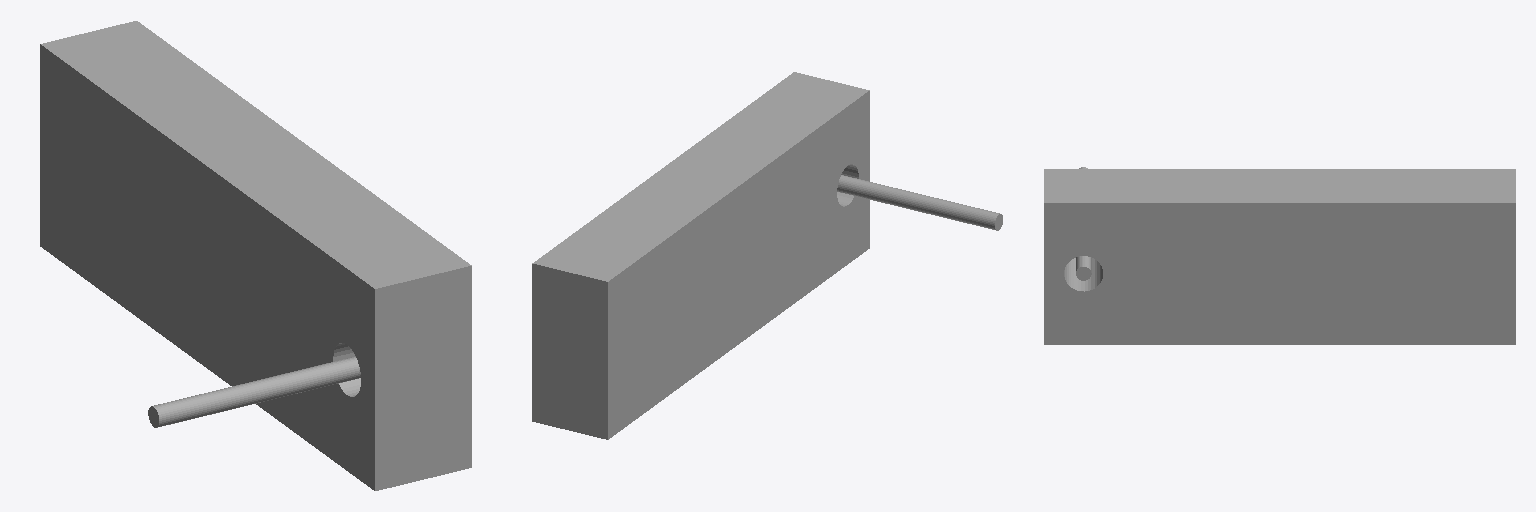
robot.urdf — TEST:
<?xml version="1.0" ?>
<!-- =================================================================================== -->
<!-- |    This document was autogenerated by xacro from /home/seongjin/Desktop/Seongjin/genesis_simulation_on_linux/My_asset/TEST_description/urdf/TEST.xacro | -->
<!-- |    EDITING THIS FILE BY HAND IS NOT RECOMMENDED                                 | -->
<!-- =================================================================================== -->
<robot name="TEST">
  <material name="silver">
    <color rgba="0.700 0.700 0.700 1.000"/>
  </material>
  <transmission name="Revolute 1_tran">
    <type>transmission_interface/SimpleTransmission</type>
    <joint name="Revolute 1">
      <hardwareInterface>hardware_interface/EffortJointInterface</hardwareInterface>
    </joint>
    <actuator name="Revolute 1_actr">
      <hardwareInterface>hardware_interface/EffortJointInterface</hardwareInterface>
      <mechanicalReduction>1</mechanicalReduction>
    </actuator>
  </transmission>
  <gazebo>
    <plugin filename="libgazebo_ros_control.so" name="control"/>
  </gazebo>
  <gazebo reference="base_link">
    <material>Gazebo/Silver</material>
    <mu1>0.2</mu1>
    <mu2>0.2</mu2>
    <selfCollide>true</selfCollide>
    <gravity>true</gravity>
  </gazebo>
  <gazebo reference="link_1">
    <material>Gazebo/Silver</material>
    <mu1>0.2</mu1>
    <mu2>0.2</mu2>
    <selfCollide>true</selfCollide>
  </gazebo>
  <link name="base_link">
    <inertial>
      <origin rpy="0 0 0" xyz="-0.015 0.0050000000001045675 0.009999999999999998"/>
      <mass value="0.0007398450699204277"/>
      <inertia ixx="0.0" ixy="0.0" ixz="0.0" iyy="0.0" iyz="-0.0" izz="0.0"/>
    </inertial>
    <visual>
      <origin rpy="0 0 0" xyz="0 0 0"/>
      <geometry>
        <mesh filename="../meshes/base_link.stl" scale="0.001 0.001 0.001"/>
      </geometry>
      <material name="silver"/>
    </visual>
    <collision>
      <origin rpy="0 0 0" xyz="0 0 0"/>
      <geometry>
        <mesh filename="../meshes/base_link.stl" scale="0.001 0.001 0.001"/>
      </geometry>
    </collision>
  </link>
  <link name="link_1">
    <inertial>
      <origin rpy="0 0 0" xyz="-0.005 0.025415866137189564 0.0"/>
      <mass value="0.09265865610433244"/>
      <inertia ixx="3e-05" ixy="0.0" ixz="-0.0" iyy="4e-06" iyz="-0.0" izz="2.8e-05"/>
    </inertial>
    <visual>
      <origin rpy="0 0 0" xyz="-0.0 -0.005 -0.01"/>
      <geometry>
        <mesh filename="../meshes/link_1.stl" scale="0.001 0.001 0.001"/>
      </geometry>
      <material name="silver"/>
    </visual>
    <collision>
      <origin rpy="0 0 0" xyz="-0.0 -0.005 -0.01"/>
      <geometry>
        <mesh filename="../meshes/link_1.stl" scale="0.001 0.001 0.001"/>
      </geometry>
    </collision>
  </link>
  <joint name="Revolute 1" type="continuous">
    <origin rpy="0 0 0" xyz="0.0 0.005 0.01"/>
    <parent link="base_link"/>
    <child link="link_1"/>
    <axis xyz="1.0 0.0 0.0"/>
  </joint>
</robot>

--- Facts derived from the render (not from the file) ---
Views: 3 orthographic renders of the robot side by side, from view 1: azimuth 30°, elevation 25°; view 2: azimuth 150°, elevation 25°; view 3: azimuth 270°, elevation 25°.
Model TEST with 2 links and 1 joints (1 continuous), rooted at base_link, posed every joint at zero.
Links seen in each view (by area): view 1: link_1, base_link; view 2: link_1, base_link; view 3: link_1.
Link boxes in pixels (left/top/right/bottom): link_1: left=40, top=21, right=471, bottom=490; base_link: left=148, top=356, right=360, bottom=427; link_1: left=532, top=72, right=869, bottom=439; base_link: left=837, top=175, right=1002, bottom=230; link_1: left=1044, top=169, right=1515, bottom=344.
Bounding box of the posed robot: 0.03 × 0.06 × 0.02 m (x, y, z).
2 mesh visuals loaded from 2 distinct referenced files (2 binary STL).
